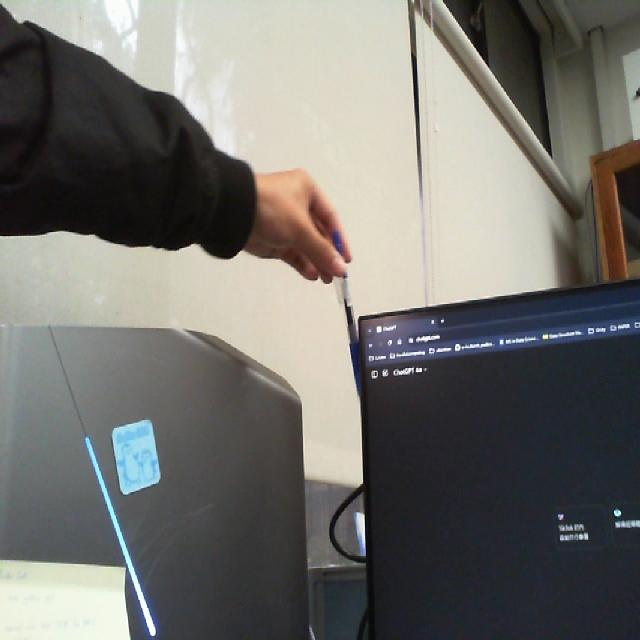Pen: (312, 227, 382, 417)
